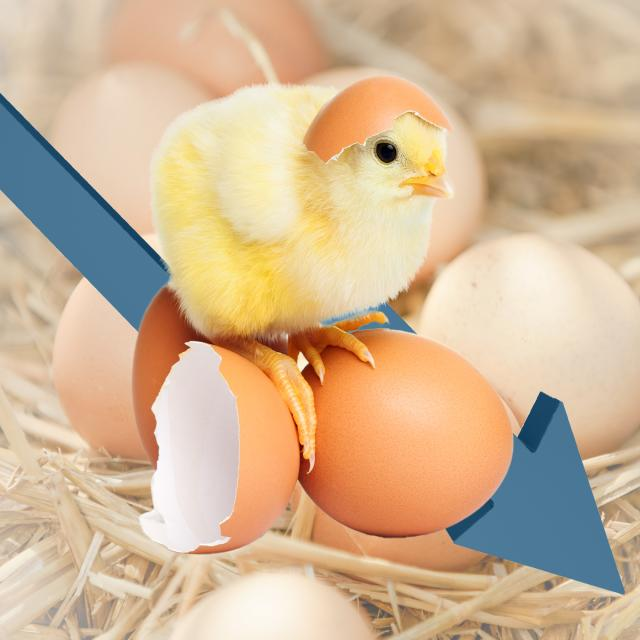huevos: (313, 336, 516, 553)
